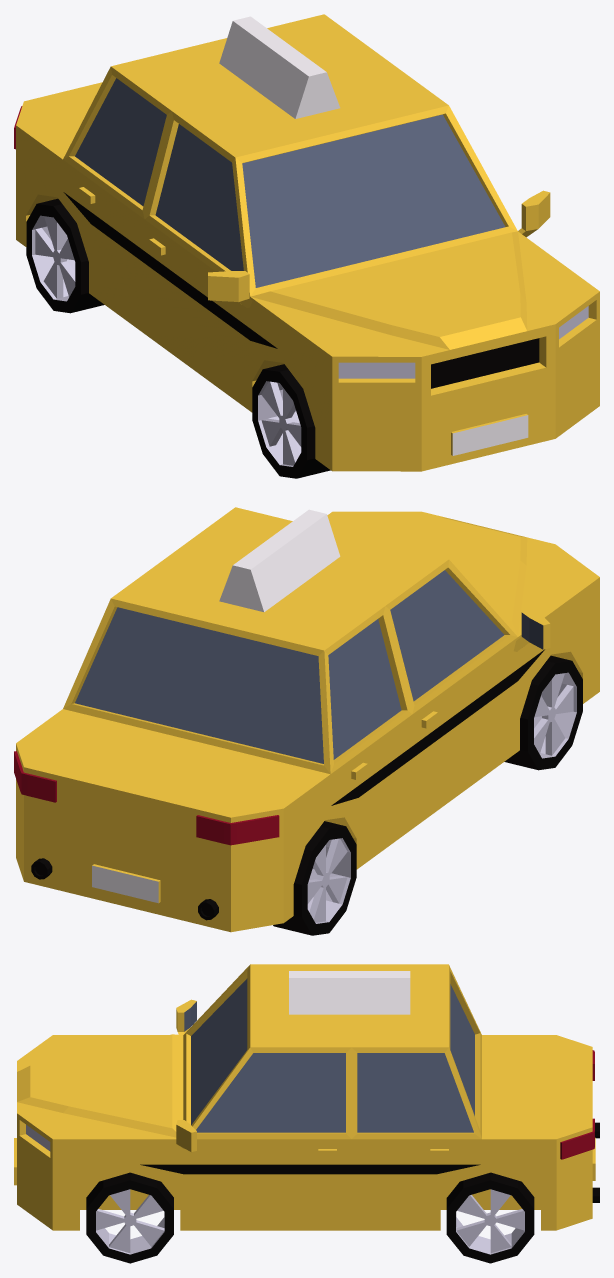
Rendered from Taxi.gltf.
The picture shows the model from 3 angles, top to bottom: view 1: azimuth 30°, elevation 25°; view 2: azimuth 150°, elevation 25°; view 3: azimuth 270°, elevation 25°; orthographic projection. The views are drawn at different scales.
Visible parts, largest first — view 1: Taxi, Taxi wheel front right, Taxi wheel rear right; view 2: Taxi, Taxi wheel rear right, Taxi wheel front right; view 3: Taxi, Taxi wheel rear left, Taxi wheel front left.
Part boxes in pixels (bbox=[...]): Taxi: bbox=[14, 14, 599, 471]; Taxi wheel front right: bbox=[252, 364, 330, 478]; Taxi wheel rear right: bbox=[26, 198, 104, 313]; Taxi: bbox=[14, 507, 599, 932]; Taxi wheel rear right: bbox=[273, 821, 356, 935]; Taxi wheel front right: bbox=[504, 655, 582, 770]; Taxi: bbox=[14, 964, 599, 1230]; Taxi wheel rear left: bbox=[446, 1172, 534, 1263]; Taxi wheel front left: bbox=[86, 1172, 173, 1263].
Bounding box in the file's own units: 2.81 × 2.32 × 5.23.
